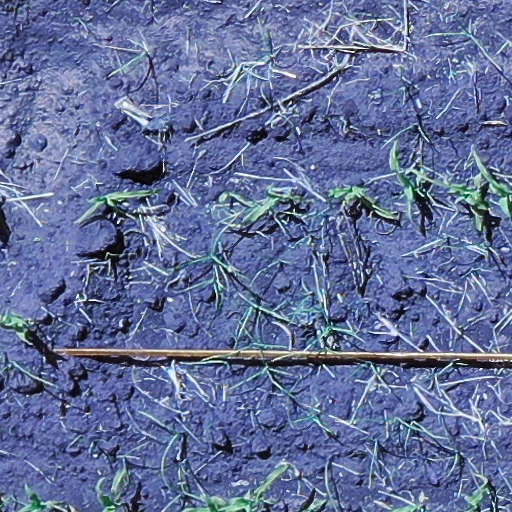planta: (433, 173, 489, 229), (76, 189, 158, 222), (232, 189, 300, 223), (330, 185, 397, 219), (388, 141, 415, 214)
